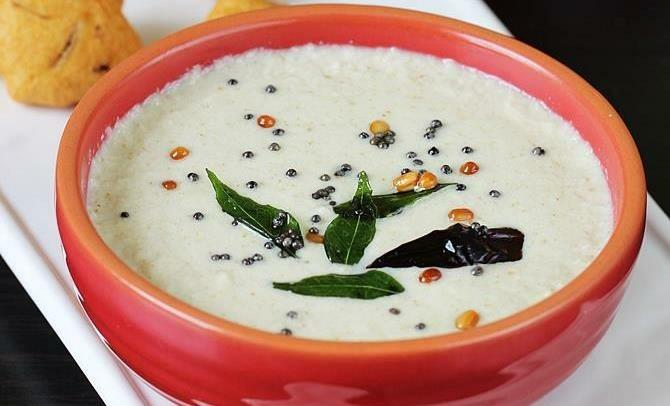CoconutChutney: (88, 44, 613, 341)
